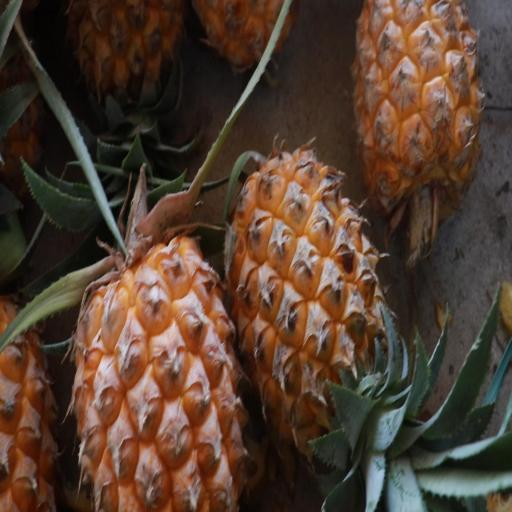Pineapple - v8 v1: (68, 147, 251, 512), (224, 144, 396, 476), (344, 0, 485, 239)
